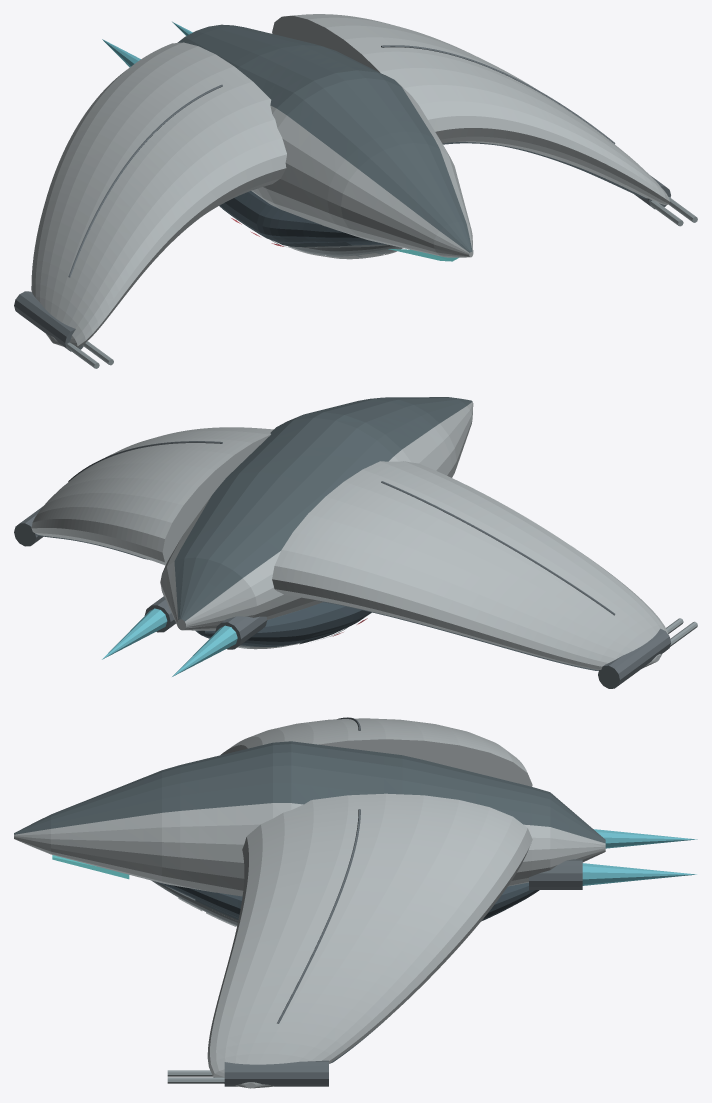
The model's file is ambwe_silver_flight.glb.
The picture shows the model from 3 angles, top to bottom: view 1: azimuth 30°, elevation 25°; view 2: azimuth 150°, elevation 25°; view 3: azimuth 270°, elevation 25°; orthographic projection. The views are drawn at different scales.
Parts seen in each view (by area): view 1: material_0, material_1, material_2, material_9, material_11, material_3, material_5; view 2: material_0, material_1, material_9, material_2, material_12, material_10; view 3: material_0, material_1, material_9, material_12, material_2, material_11.
Part boxes in pixels (x1,y1,x2,y2): material_0: (31, 14, 669, 347); material_1: (177, 24, 472, 252); material_2: (220, 191, 386, 245); material_9: (14, 45, 670, 351); material_11: (66, 197, 697, 368); material_3: (291, 244, 403, 257); material_5: (219, 205, 351, 246); material_0: (31, 402, 668, 670); material_1: (174, 397, 472, 621); material_9: (14, 441, 670, 688); material_2: (195, 602, 370, 646); material_12: (102, 608, 237, 676); material_10: (35, 534, 598, 670); material_0: (14, 718, 605, 1088); material_1: (14, 741, 605, 843); material_9: (224, 717, 582, 1086); material_12: (582, 829, 697, 885); material_2: (155, 881, 539, 921); material_11: (167, 1070, 224, 1083).
Bounding box in the file's own units: 4.65 × 1.35 × 4.45.
